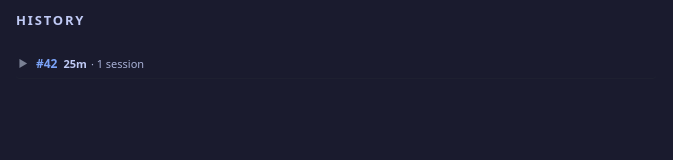
HistoryPage grouping integration › clicking issue group header expands to show date sub-groups
Click the button with test id "issue-group-header". click: (124, 63)
box: [16,49,656,79]
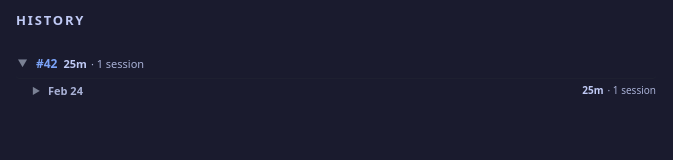
Expected: the button with test id "date-subgroup-header" is shown, [16,79,656,102]
Expected: the button with test id "issue-group-header" is expanded, [16,49,656,79]
